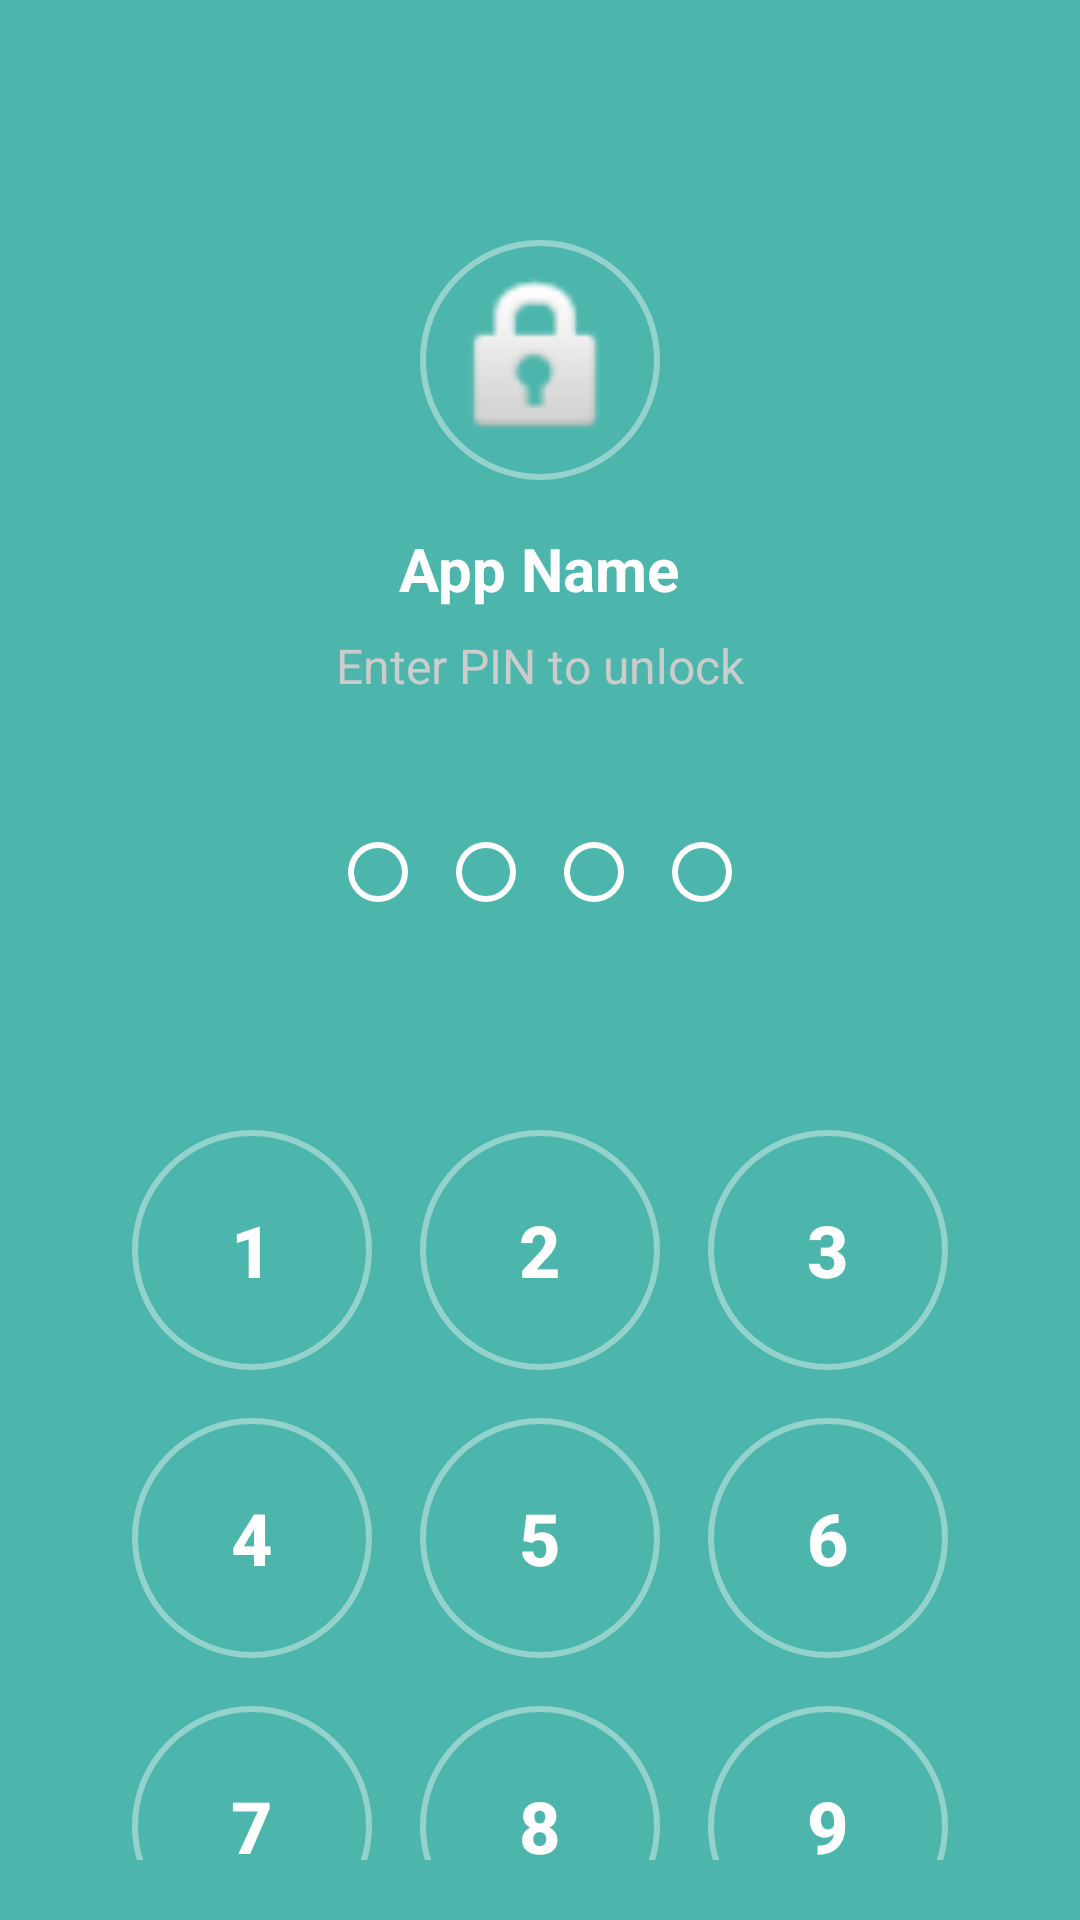

Where icons sit on this 1080w x 1920h app screen, as [x1=x1, y1=y1, x2=x2, y2=y2]:
lock idle: [x1=420, y1=240, x2=660, y2=480]
